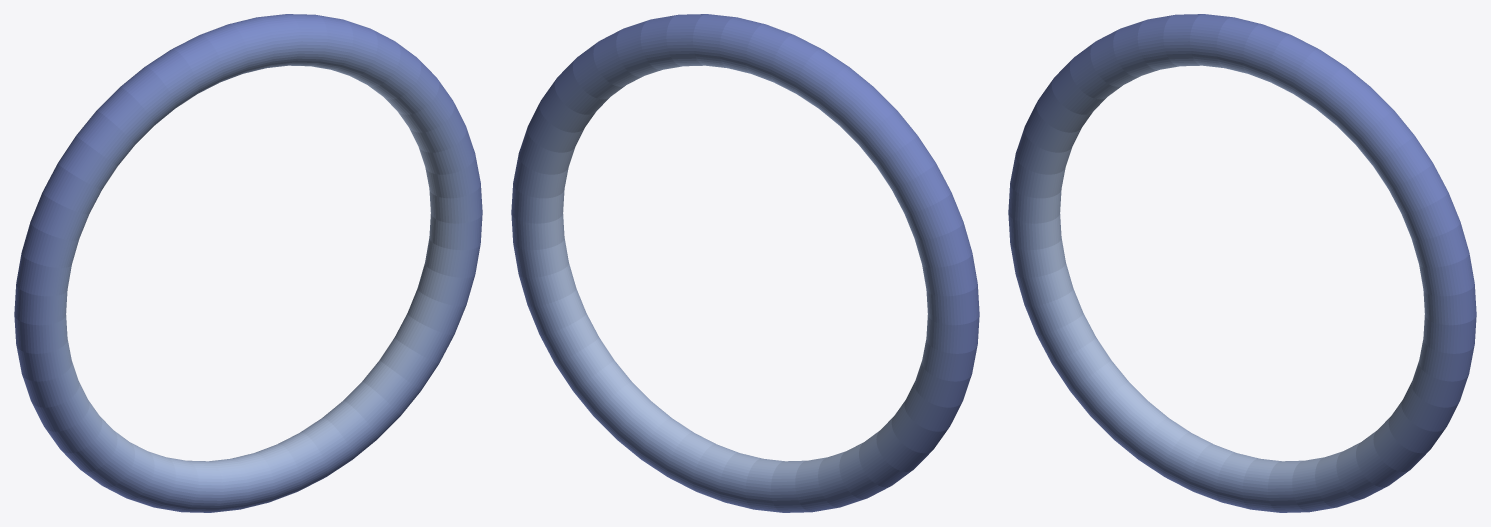
The picture shows the model from 3 angles, left to right: view 1: azimuth 30°, elevation 25°; view 2: azimuth 150°, elevation 25°; view 3: azimuth 330°, elevation 25°; orthographic projection.
Visible parts, largest first — view 1: world; view 2: world; view 3: world.
Part boxes in pixels (box(x1,y1,x2,y2)): world: box(14, 14, 482, 512); world: box(511, 14, 979, 512); world: box(1008, 14, 1476, 512).
Size of the model in its own units: 28.8 by 28.74 by 2.79.
